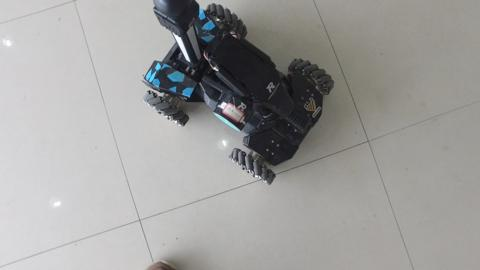chariot: (134, 2, 317, 173)
